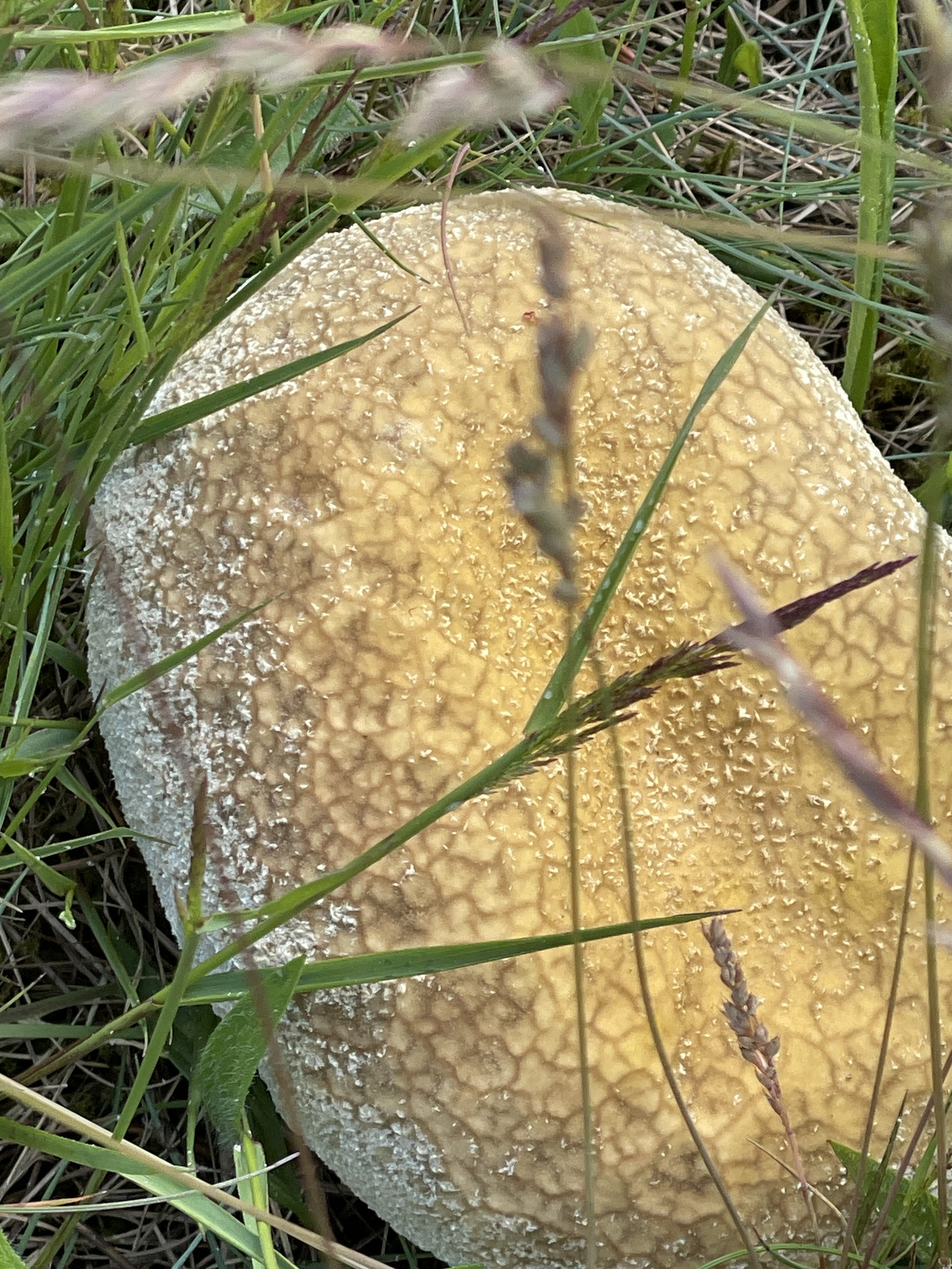Cap: (87, 189, 951, 1268)
